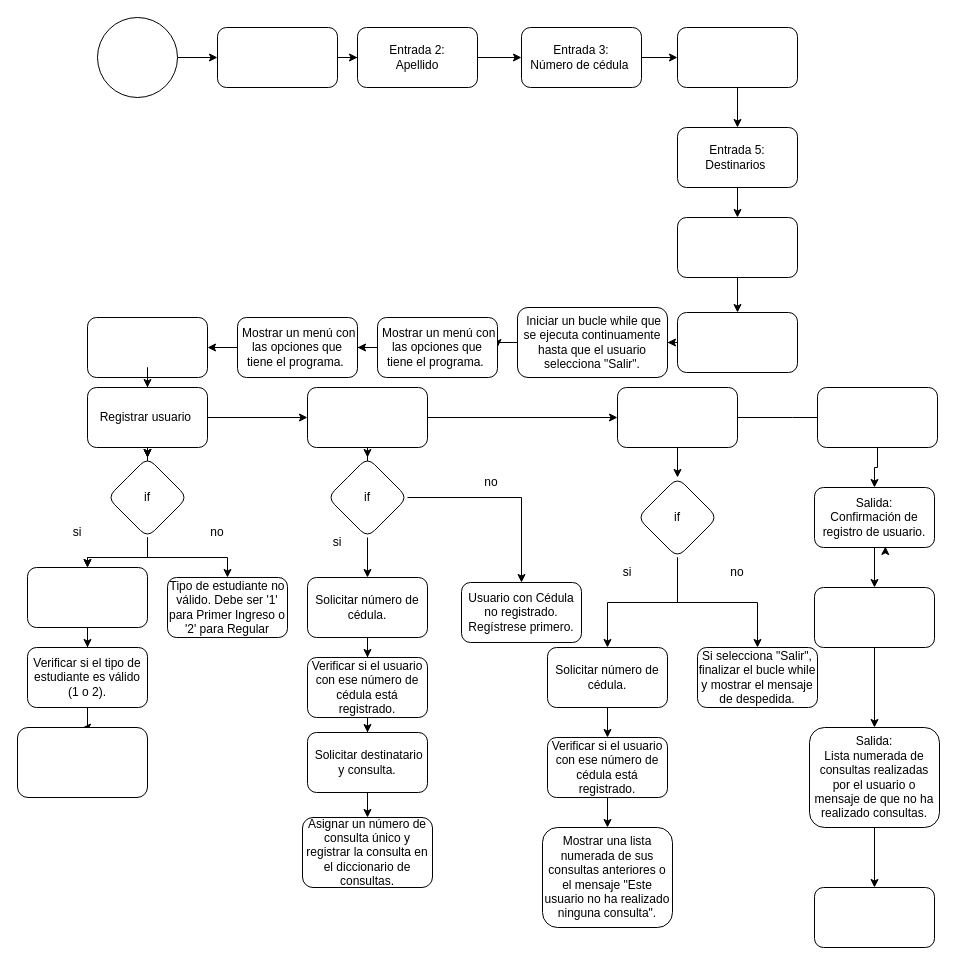
This 957x965 diagram has some shape labels left out. The shapes that lost their labels are listed below. From the top down, each one's box as (x1, y1, x2, y2) in pixels, then its label:
(216, 26, 338, 88): Entrada 1: Nombre
(676, 26, 798, 88): Entrada 4: Tipo de estudiante (1 0 2)
(676, 216, 798, 278): Entrada 6: consulta
(86, 316, 208, 378): El usuario selecciona una opción.
(676, 312, 798, 372): Procedimiento: mostrar mensaje de bienvenida
(306, 386, 428, 448): Enviar consulta
(616, 386, 738, 448): Ver consultas realizadas
(816, 386, 938, 448): Salidas: Mensajes de bienvenida y despedida.
(26, 566, 148, 628): Solicitar y registrar nombre, apellido, número de cédula y tipo de estudiante.
(814, 586, 934, 648): Salida: Mensaje de consulta enviada con número único.
(16, 726, 148, 798): Registrar la información del usuario en el diccionario de usuarios.
(814, 886, 934, 948): Salida: Mensaje de error si se selecciona una opción inválida
